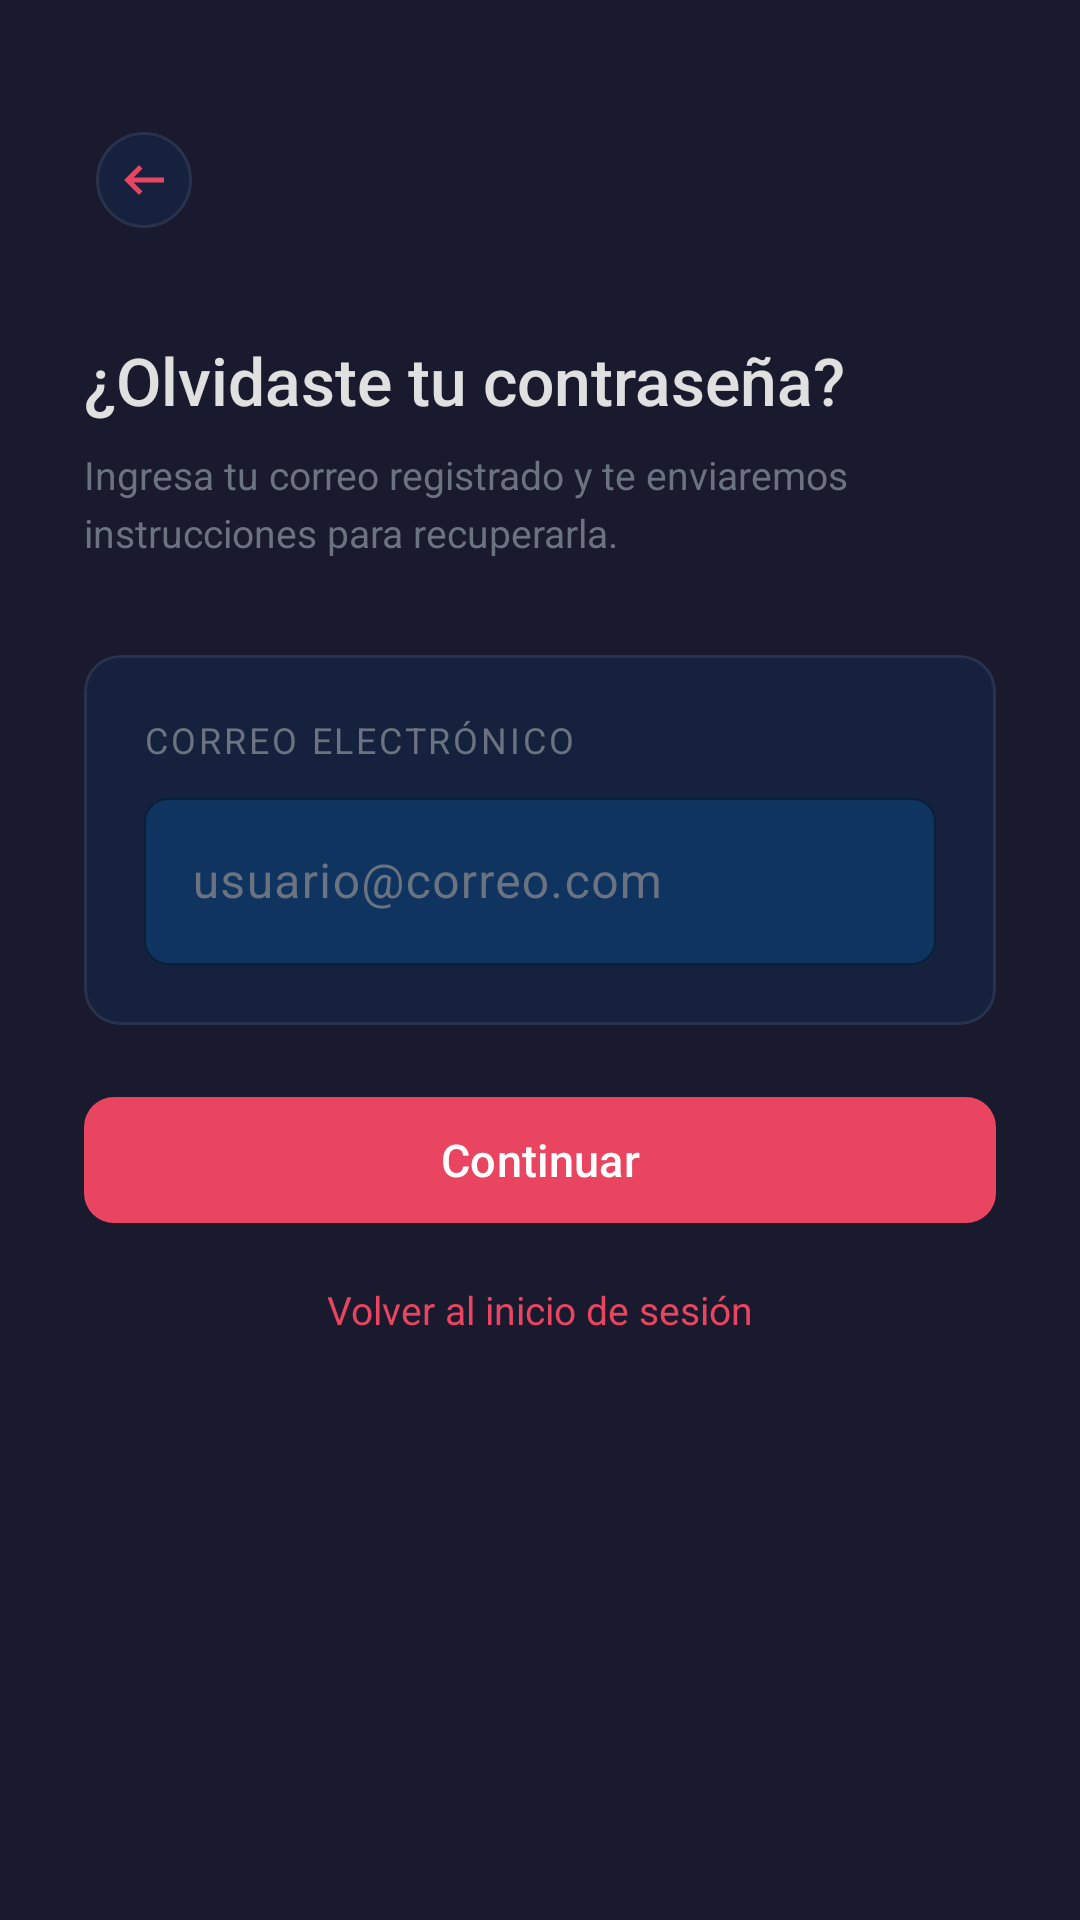

Icons on this 1080×1920 Android screen, each with its box as [x1, y1, x2, y2]:
arrow left: [96, 132, 192, 228]
